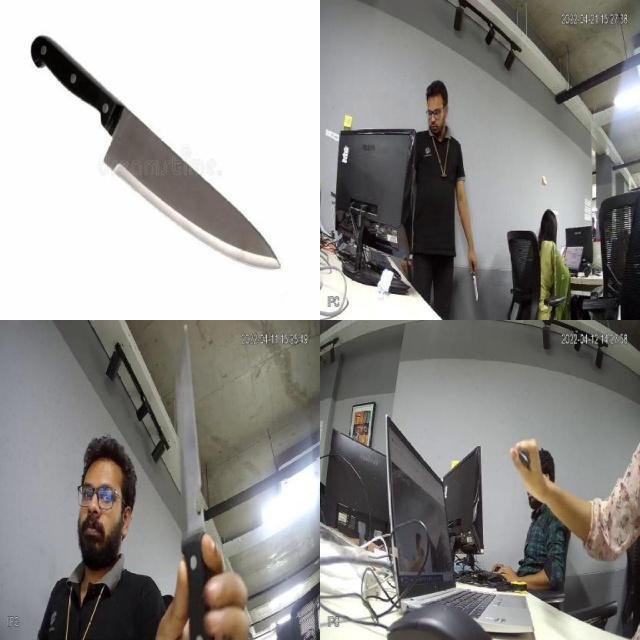-: (77, 85, 280, 272), (172, 325, 215, 599), (466, 256, 485, 300), (515, 439, 530, 471)
